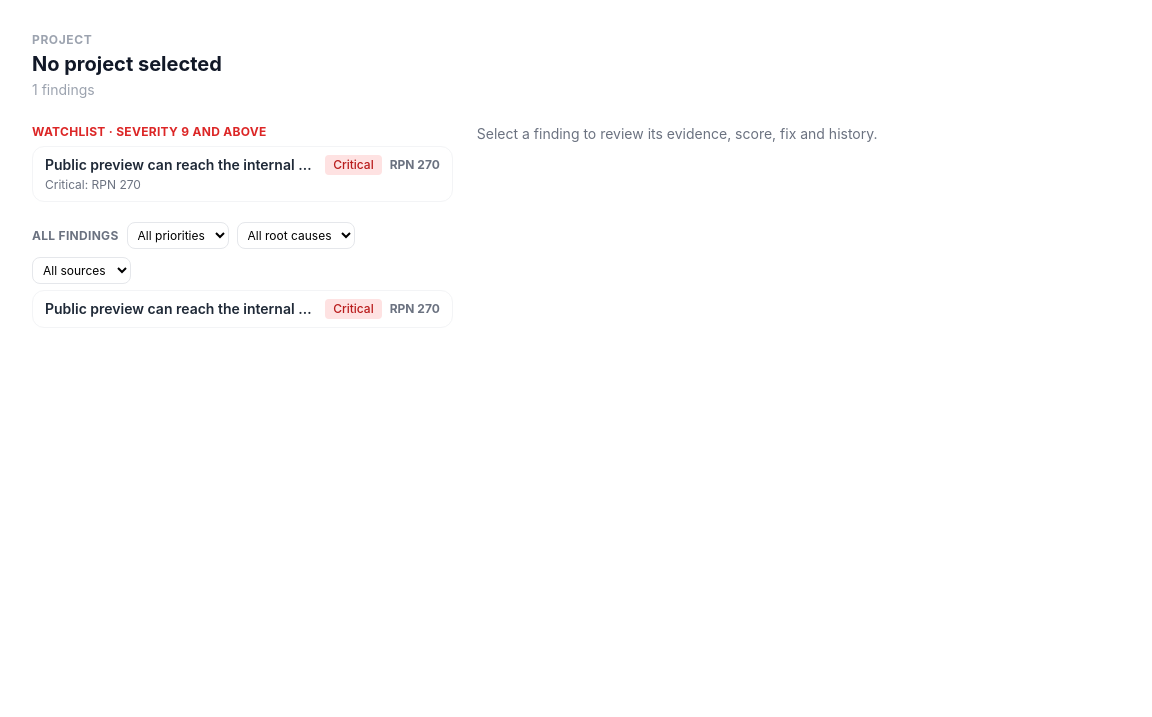
exploit paths across components › says plainly when a path was not fully verified
This screenshot has width=1152, height=717.
Click the button "Public preview can reach the internal admin service" at (242, 174), box [32,146,453,202]
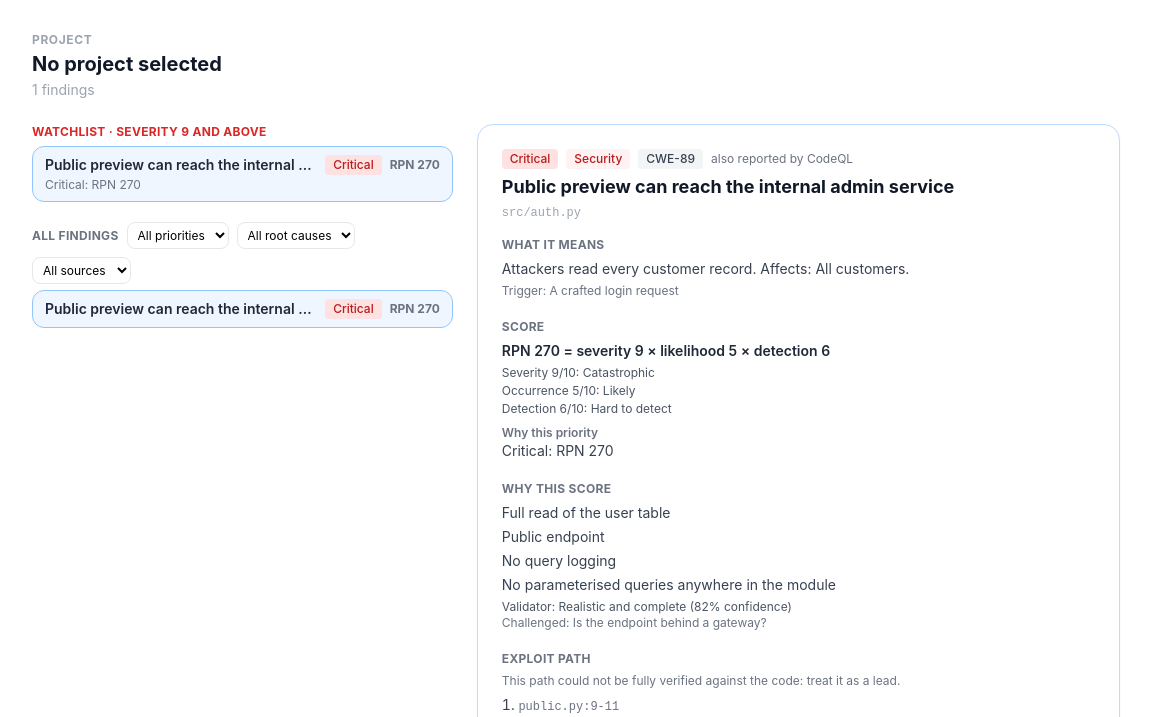
Check: the text "could not be fully verified" is shown, box [502,673,900,688]
